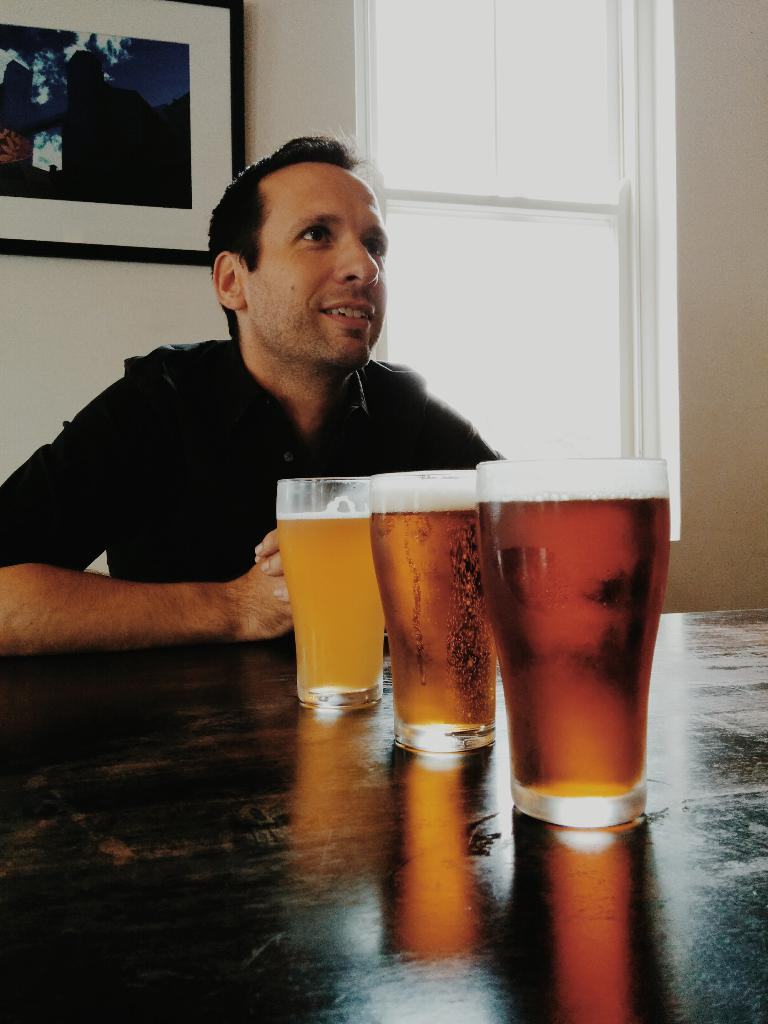Beer: (479, 481, 664, 805), (369, 470, 494, 748), (279, 508, 391, 698)
